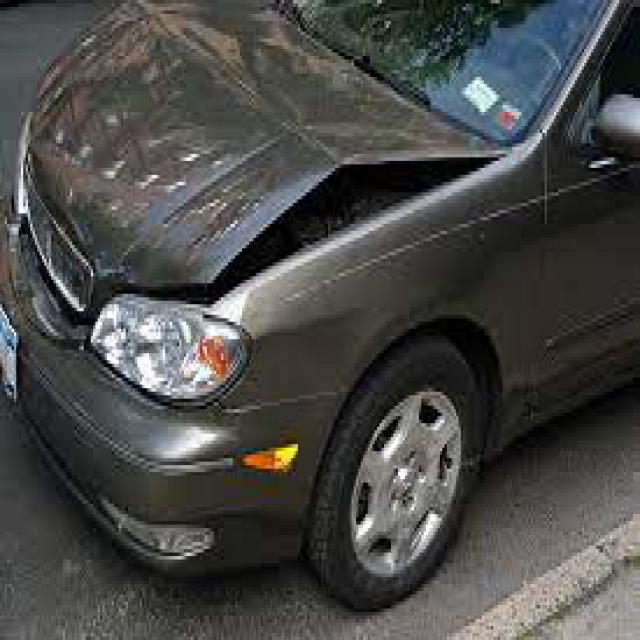bonnet-dent: (49, 7, 450, 290)
